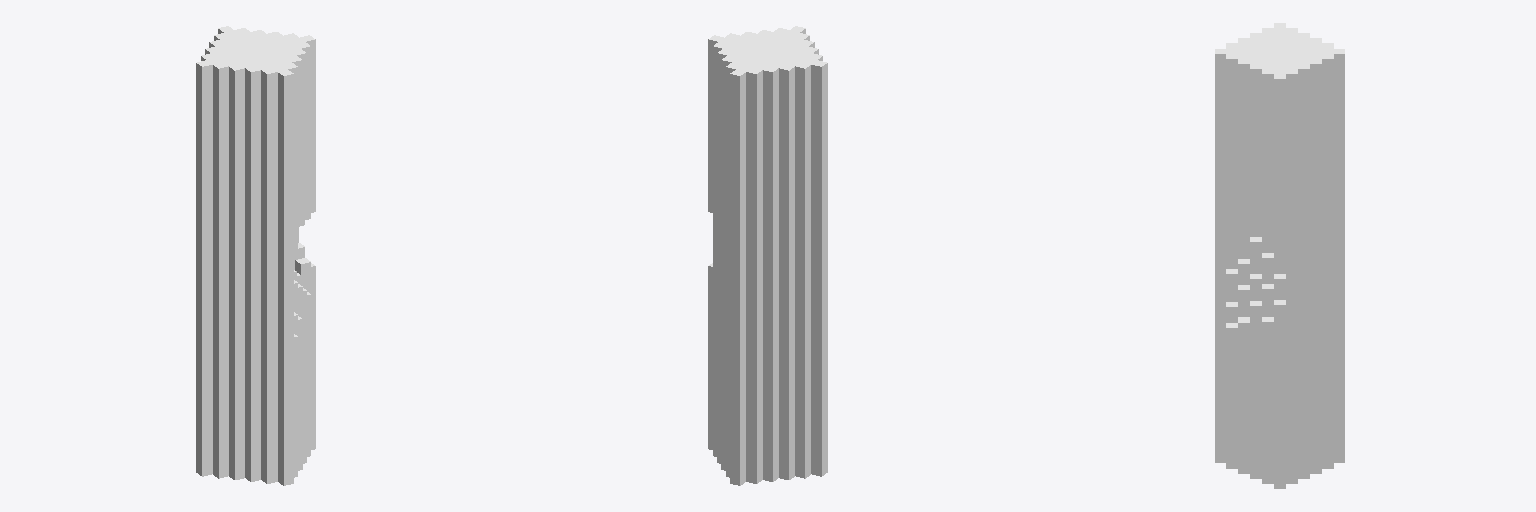
The model's file is TreeLog1.obj.
3 views of the same model, side by side, from view 1: azimuth 30°, elevation 25°; view 2: azimuth 150°, elevation 25°; view 3: azimuth 270°, elevation 25° (orthographic).
Parts seen in each view (by area): view 1: object 1; view 2: object 1; view 3: object 1.
Part boxes in pixels (bbox=[...]): object 1: bbox=[196, 26, 315, 485]; object 1: bbox=[708, 26, 827, 485]; object 1: bbox=[1215, 23, 1344, 488].
Size of the model in its own units: 1.1 by 3.8 by 1.1.